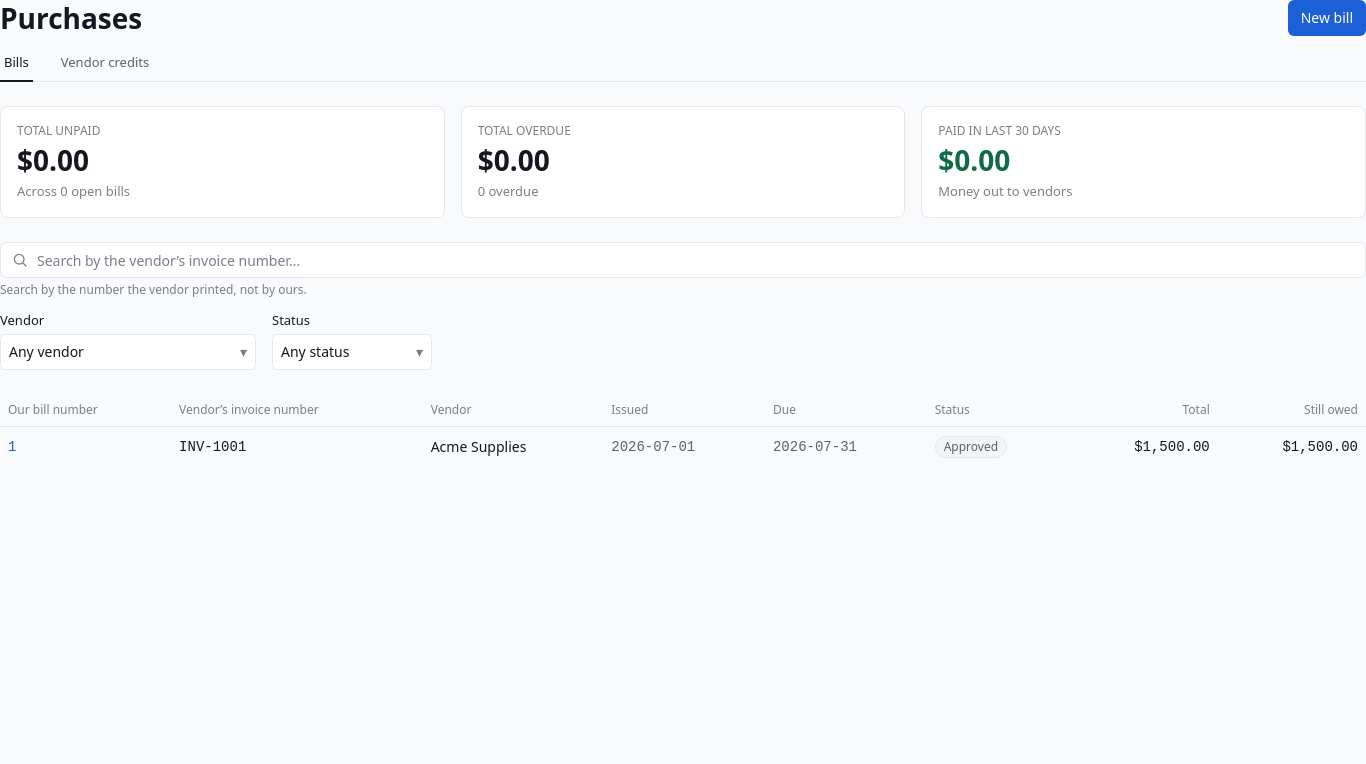
Scenario: approving › leaves an approved bill with no way to edit it
The image size is (1366, 764).
Click the button "1" at (12, 447), box left=8, top=436, right=16, bottom=458
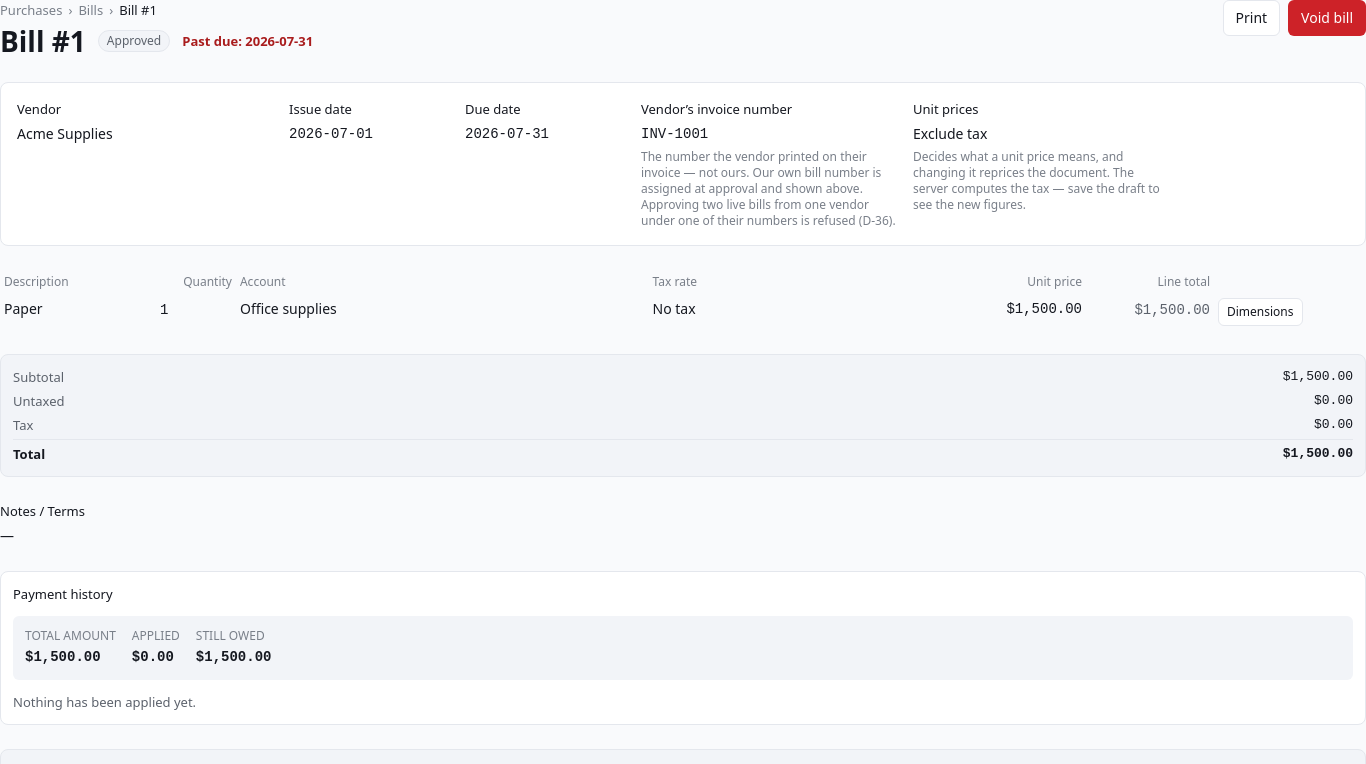
Check: the button "Void bill" is shown, box left=1288, top=0, right=1365, bottom=36
Check: no fields are shown
Check: no dropdowns are shown
